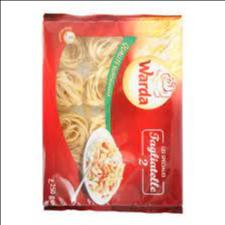Tagliatelle: (43, 15, 181, 208)
